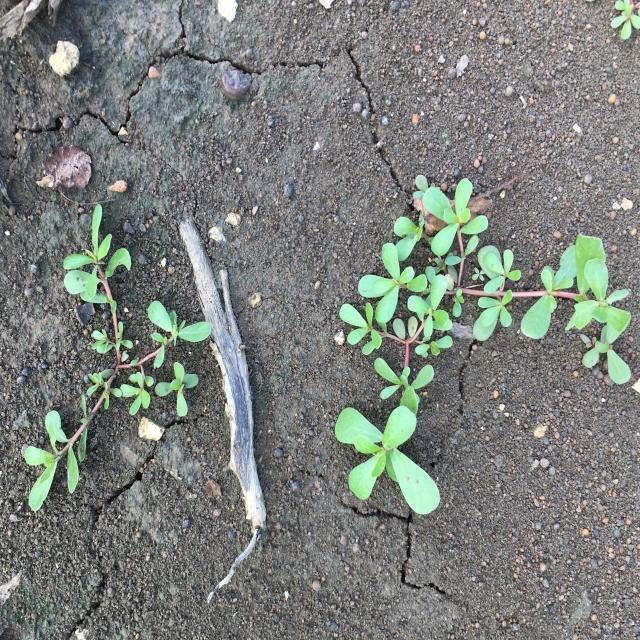Purslane: (334, 175, 631, 514), (24, 204, 212, 512), (611, 0, 640, 39)
